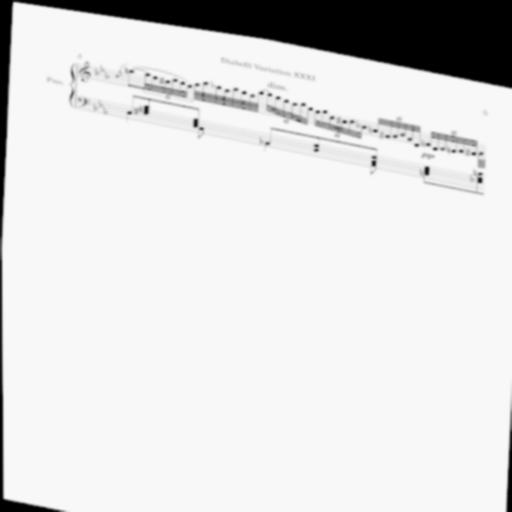bass_clef: (77, 93, 90, 107)
diminuendo_sign: (267, 73, 288, 83)
double_piano_sign: (421, 139, 435, 147)
eighth_note: (126, 90, 135, 112), (192, 101, 200, 122), (476, 157, 483, 180), (143, 93, 150, 111), (265, 118, 271, 138), (128, 65, 134, 83), (424, 152, 430, 170), (371, 136, 377, 153), (314, 127, 320, 143), (370, 151, 376, 165), (198, 121, 204, 134)
flat: (94, 100, 98, 109), (103, 103, 107, 112), (95, 65, 99, 74), (100, 61, 104, 70), (105, 68, 109, 77), (211, 74, 215, 83), (356, 109, 360, 118), (260, 128, 264, 137), (470, 159, 474, 168), (99, 97, 103, 105)
grace_eighth_note: (116, 66, 122, 75)
n_tuplet_sign: (165, 89, 170, 95), (335, 122, 340, 128), (396, 104, 402, 109), (451, 116, 456, 122), (284, 110, 289, 115)
natural: (447, 132, 451, 141), (139, 100, 142, 109), (420, 155, 423, 164), (368, 114, 371, 123), (421, 126, 424, 135), (125, 63, 128, 71), (474, 154, 477, 162)
note_head: (143, 100, 150, 105), (413, 130, 420, 135), (128, 65, 134, 70), (143, 106, 149, 111), (145, 68, 151, 73), (165, 74, 171, 79), (180, 75, 186, 80), (187, 78, 193, 83), (194, 76, 200, 81), (224, 81, 230, 86), (267, 84, 273, 89), (275, 87, 281, 92), (284, 90, 290, 95), (307, 97, 313, 102), (329, 105, 335, 110), (342, 109, 348, 114), (349, 108, 355, 113), (399, 120, 405, 125), (432, 133, 438, 138), (440, 133, 446, 138), (478, 136, 484, 141), (193, 111, 199, 116), (193, 114, 199, 119), (265, 133, 271, 138), (313, 138, 319, 143), (371, 151, 377, 156), (127, 107, 133, 111), (152, 71, 158, 75), (172, 73, 178, 77), (203, 75, 209, 79), (216, 79, 222, 83), (233, 80, 239, 84), (241, 83, 247, 87), (250, 86, 256, 90), (258, 83, 264, 87), (292, 93, 298, 97), (300, 93, 306, 97), (315, 100, 321, 104), (322, 100, 328, 104), (361, 114, 367, 118), (372, 117, 378, 121), (385, 122, 391, 126), (392, 122, 398, 126), (407, 125, 413, 129), (425, 129, 431, 133), (451, 135, 457, 139), (458, 135, 464, 139), (471, 137, 477, 141), (192, 118, 198, 122), (314, 134, 320, 138), (371, 148, 377, 152), (424, 152, 430, 156), (424, 155, 430, 159), (424, 158, 430, 162), (477, 157, 483, 161), (143, 104, 149, 107), (198, 121, 204, 124), (371, 144, 377, 147), (477, 162, 483, 165), (477, 165, 483, 168), (115, 71, 119, 74)
quarter_note: (265, 133, 271, 145), (126, 107, 132, 118)
sharp: (465, 133, 471, 143), (134, 102, 139, 112), (159, 71, 164, 81), (336, 105, 341, 115), (379, 119, 384, 128)
sixty_fourth_note: (256, 82, 264, 105), (202, 75, 209, 96), (232, 80, 239, 101), (215, 78, 222, 98), (193, 77, 200, 94), (223, 82, 230, 99), (241, 83, 247, 102), (249, 86, 255, 104)
slur_sign: (132, 61, 190, 78), (120, 59, 130, 73)
staff: (74, 94, 485, 176), (76, 61, 487, 143)
thirty_second_note: (413, 112, 421, 135), (299, 92, 306, 115), (477, 136, 485, 154), (283, 90, 290, 110), (291, 93, 298, 113), (306, 97, 313, 117), (432, 118, 439, 138), (372, 105, 380, 121), (425, 118, 433, 134), (144, 68, 151, 86), (171, 73, 178, 91), (348, 108, 355, 126), (470, 124, 477, 141), (266, 85, 272, 104), (275, 88, 281, 107), (322, 100, 328, 119), (385, 108, 391, 126), (392, 109, 398, 127), (440, 120, 446, 138), (186, 78, 193, 93), (341, 109, 348, 124), (360, 114, 367, 129), (399, 110, 406, 125), (179, 75, 185, 92), (314, 100, 320, 117), (407, 112, 413, 129), (451, 122, 457, 139), (152, 71, 158, 87), (329, 105, 335, 121), (458, 123, 464, 139), (164, 75, 170, 89)
tie_sign: (131, 63, 148, 68), (261, 81, 270, 84)
treble_clef: (78, 58, 91, 81)
